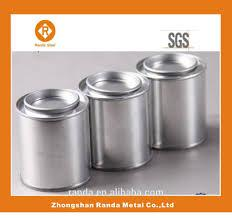Tin: (15, 52, 216, 192)
